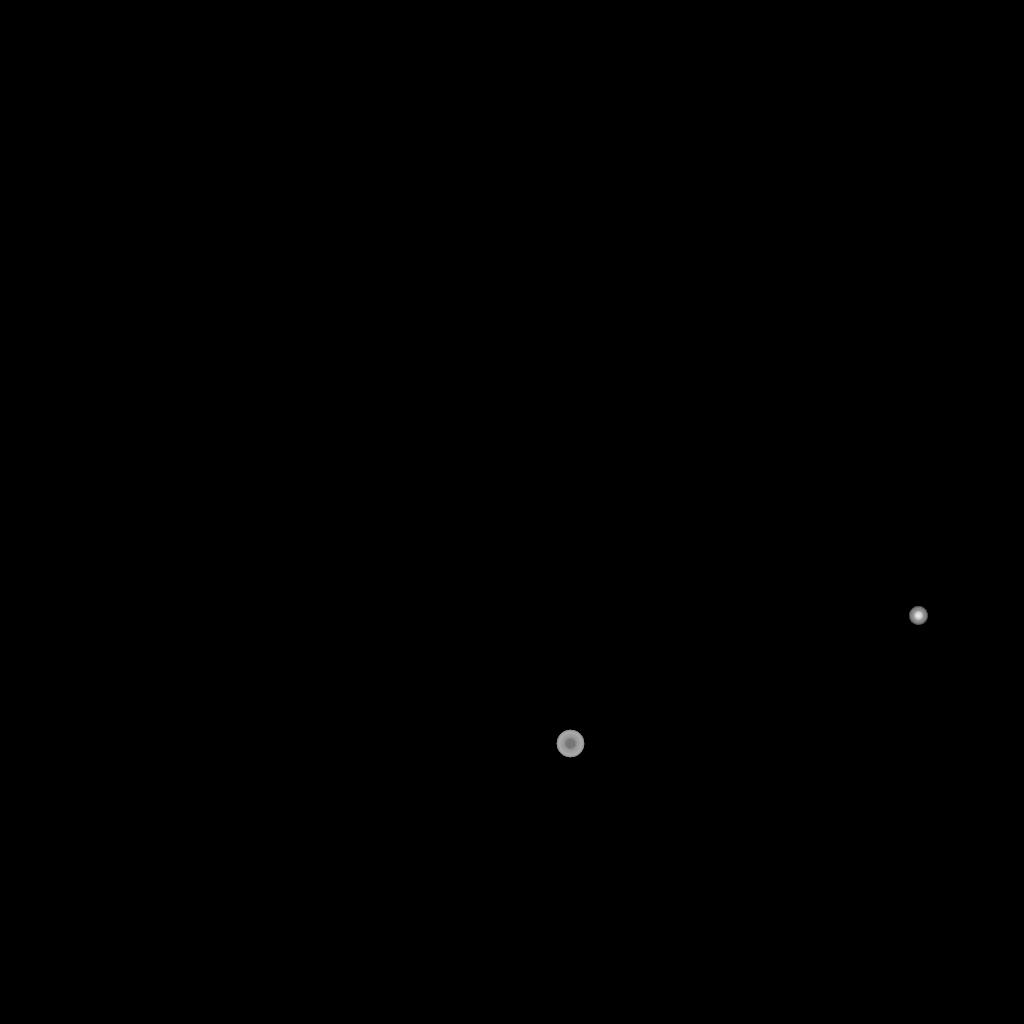depth:-20: (909, 607, 927, 625)
depth:-50: (556, 730, 584, 758)
